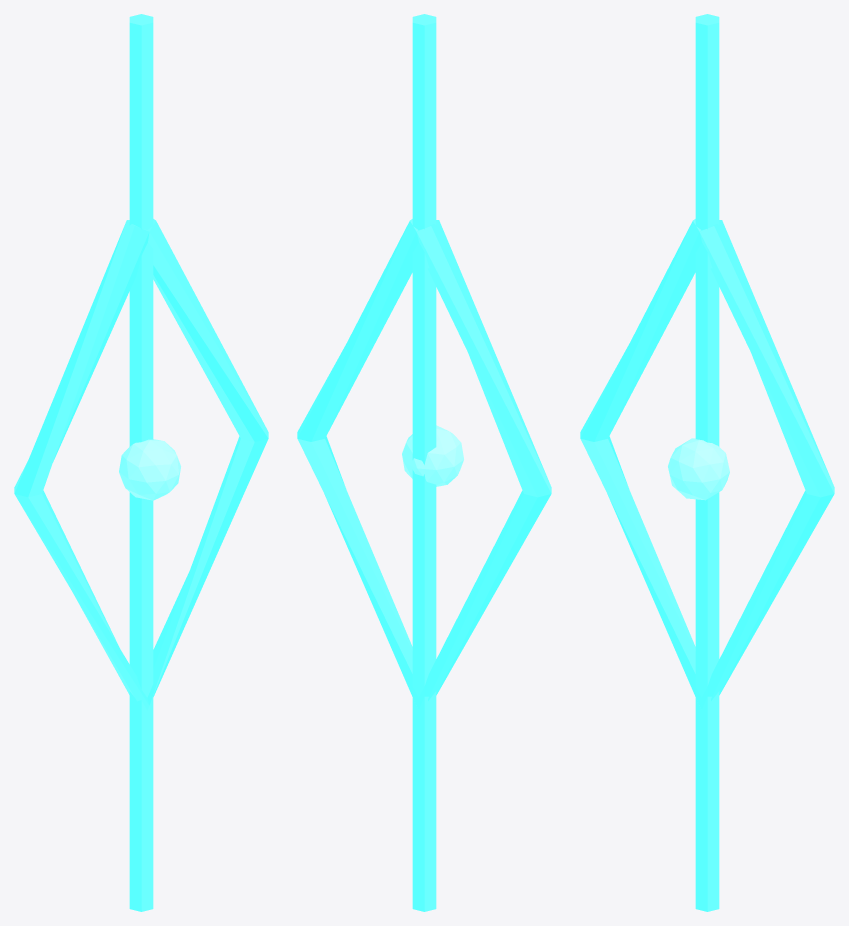
The model's file is forest_rune_diamond.glb.
The picture shows the model from 3 angles, left to right: view 1: azimuth 30°, elevation 25°; view 2: azimuth 150°, elevation 25°; view 3: azimuth 330°, elevation 25°; orthographic projection.
Parts seen in each view (by area): view 1: Glowing diamond rune.001, Rune vertical stroke.001, Rune center luminous seed; view 2: Glowing diamond rune.001, Rune vertical stroke.001, Rune center luminous seed; view 3: Glowing diamond rune.001, Rune vertical stroke.001, Rune center luminous seed.
Boxes of the visible parts, left/top/right/bottom form: Glowing diamond rune.001: left=14, top=219, right=268, bottom=710; Rune vertical stroke.001: left=129, top=14, right=153, bottom=911; Rune center luminous seed: left=119, top=439, right=180, bottom=500; Glowing diamond rune.001: left=297, top=219, right=551, bottom=710; Rune vertical stroke.001: left=412, top=14, right=436, bottom=911; Rune center luminous seed: left=402, top=425, right=463, bottom=486; Glowing diamond rune.001: left=580, top=219, right=834, bottom=710; Rune vertical stroke.001: left=695, top=14, right=719, bottom=911; Rune center luminous seed: left=668, top=438, right=729, bottom=500.
Bounding box in the file's own units: 0.258 × 0.86 × 0.057.
